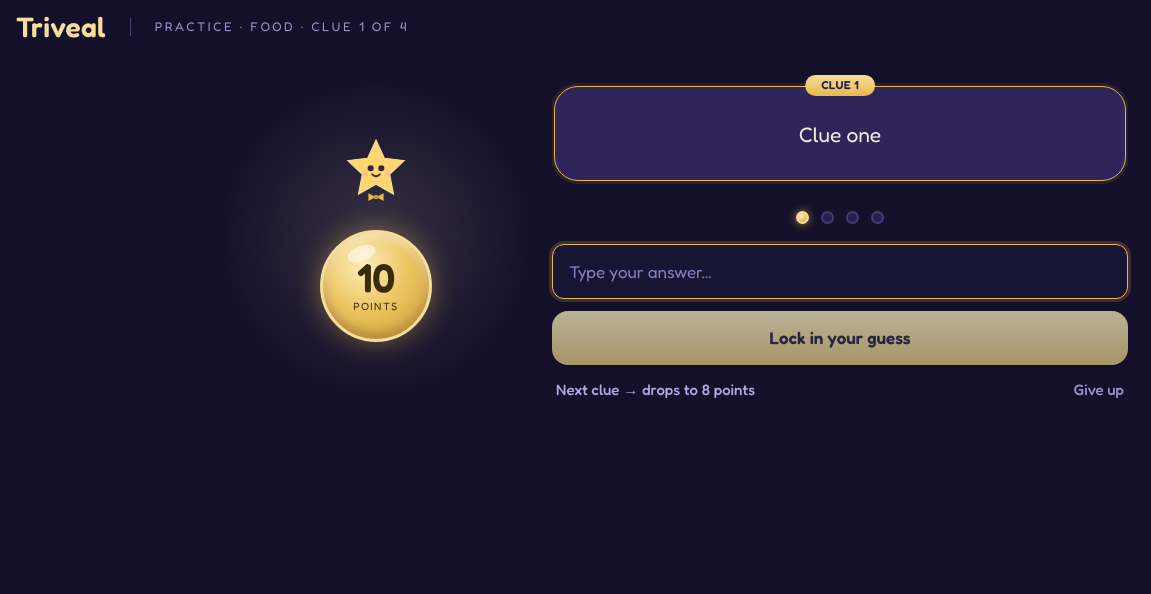
Test: Game keyboard play › puts the caret back after a wrong guess sent with the button
Step 1. Type "Pepper" into the field labelled "your answer" → (840, 271), box [552,244,1128,299]
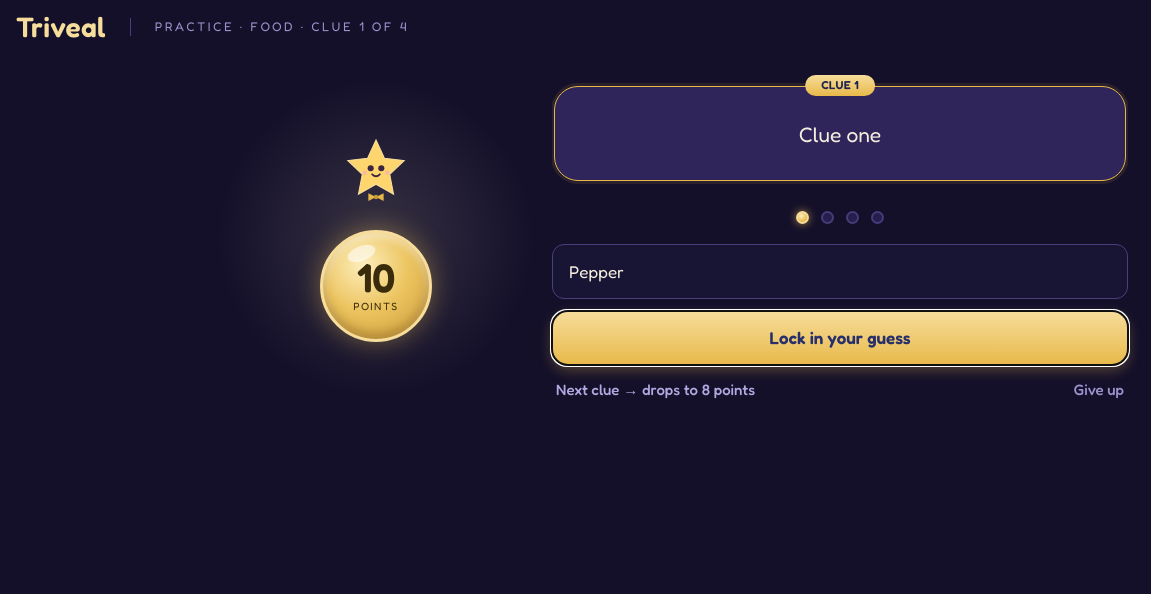
Step 2. Click the button "Lock in your guess" → (840, 338), box [552,311,1128,364]
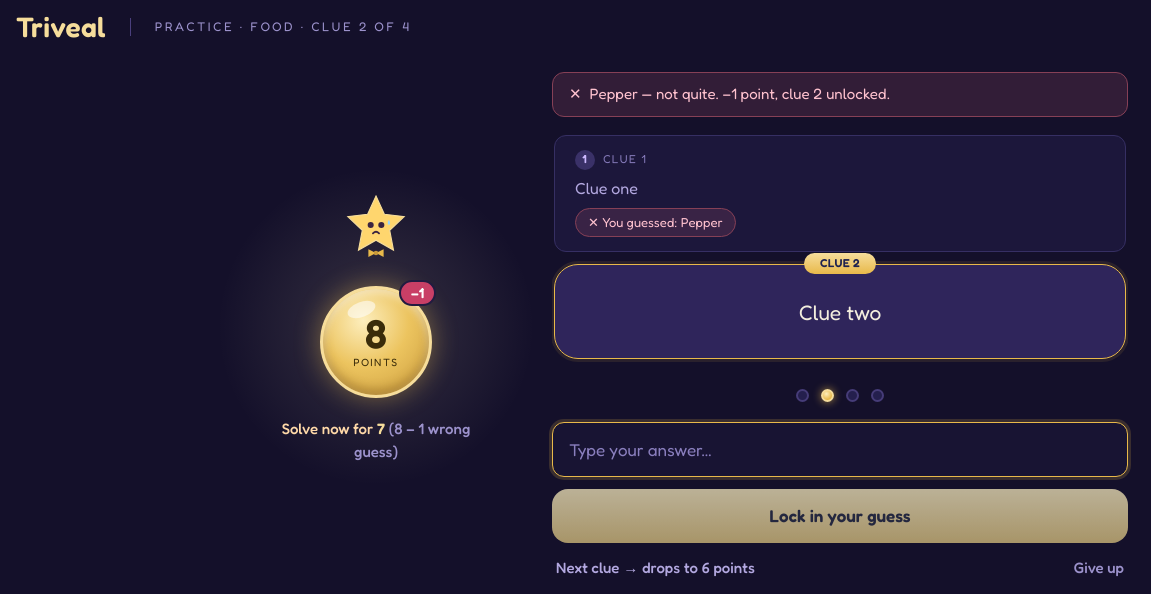
Expected: the text "Clue two" is shown, [799,300,881,325]
